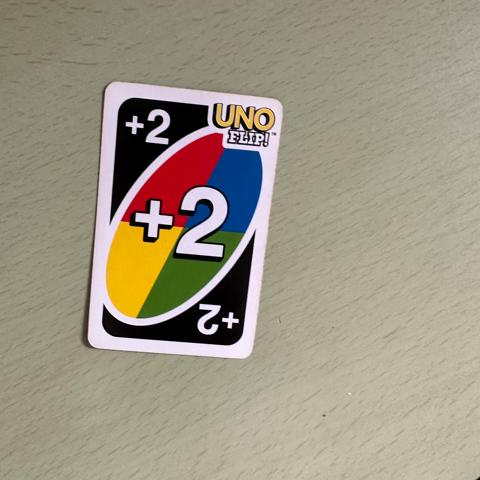lcolor2-50: (111, 98, 175, 155)
